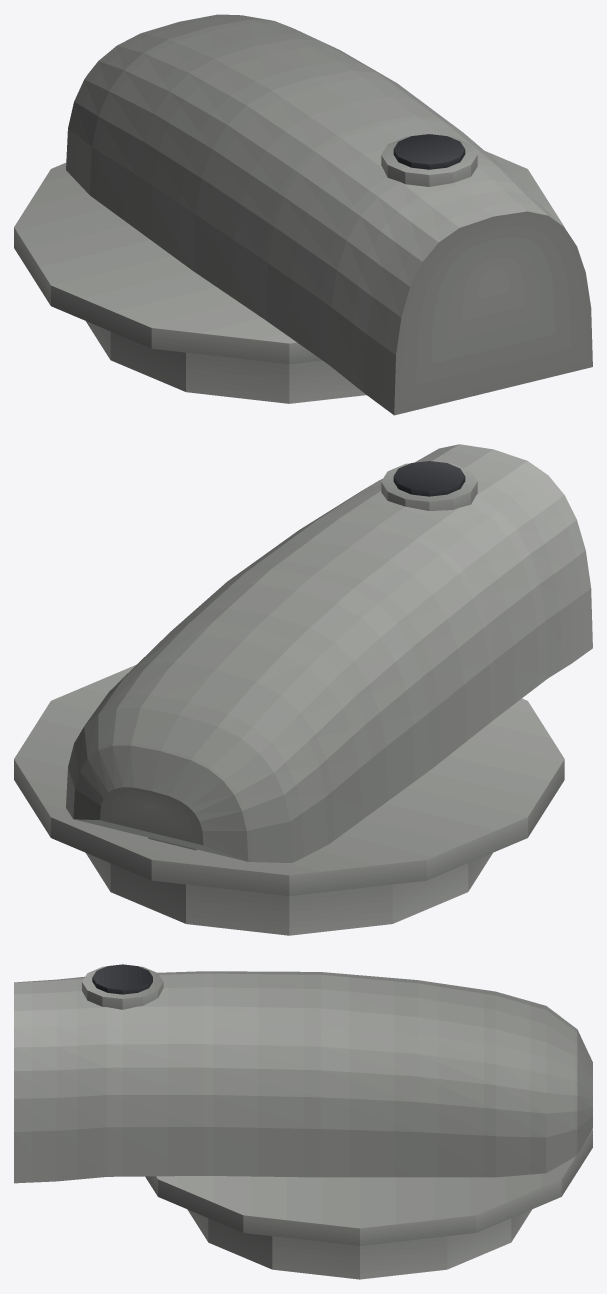
Rendered from streetlight_whov50shadednp.obj.
The picture shows the model from 3 angles, top to bottom: view 1: azimuth 30°, elevation 25°; view 2: azimuth 150°, elevation 25°; view 3: azimuth 270°, elevation 25°; orthographic projection. The views are drawn at different scales.
Visible parts, largest first — view 1: fixture; view 2: fixture; view 3: fixture.
Part boxes in pixels (x1,y1,x2,y2): fixture: [14, 14, 592, 415]; fixture: [14, 444, 592, 935]; fixture: [14, 964, 592, 1279].
Size of the model in its own units: 0.75 by 0.4493 by 0.9312.
